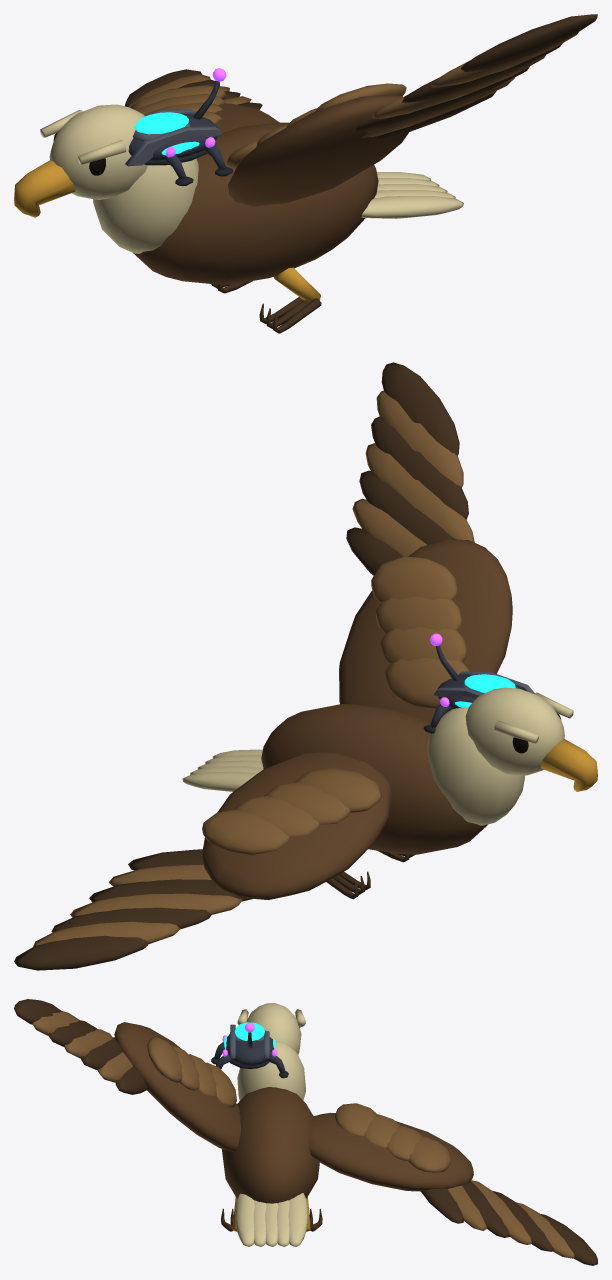
File: controlled_eagle.glb
3 renders of one model, top to bottom at view 1: azimuth 30°, elevation 25°; view 2: azimuth 150°, elevation 25°; view 3: azimuth 270°, elevation 25°, orthographic. The views are drawn at different scales.
Parts seen in each view (by area): view 1: NaturalFaunaGeometry, AlienControlDeviceGeometry; view 2: NaturalFaunaGeometry, AlienControlDeviceGeometry; view 3: NaturalFaunaGeometry, AlienControlDeviceGeometry.
Boxes of the visible parts, x1=… form: NaturalFaunaGeometry: x1=14, y1=14, x2=597, y2=333; AlienControlDeviceGeometry: x1=125, y1=68, x2=233, y2=186; NaturalFaunaGeometry: x1=14, y1=362, x2=597, y2=970; AlienControlDeviceGeometry: x1=423, y1=633, x2=534, y2=733; NaturalFaunaGeometry: x1=14, y1=999, x2=597, y2=1265; AlienControlDeviceGeometry: x1=211, y1=1022, x2=288, y2=1078.
Size of the model in its own units: 2.29 by 1.94 by 3.73.
